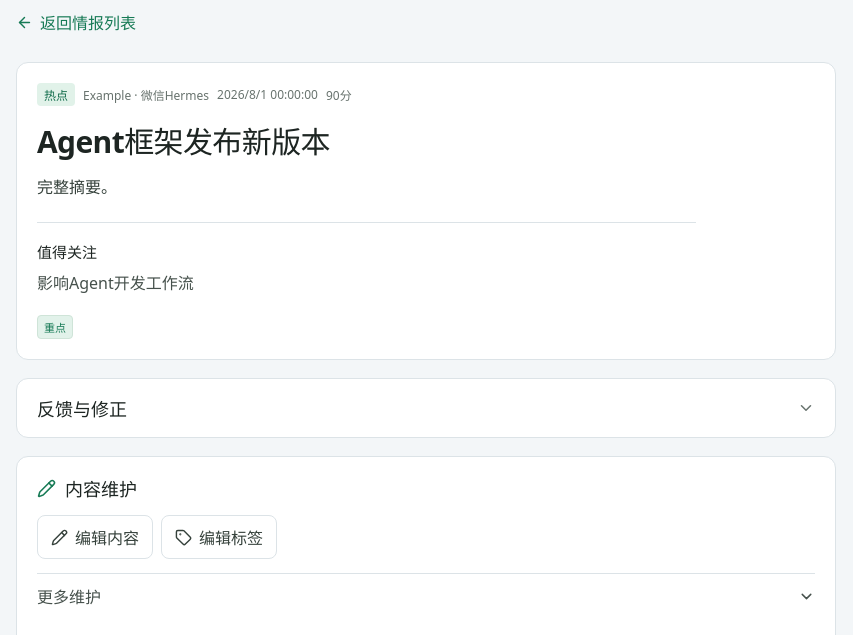
可以在详情编辑标签
Step 1. Click the button "编辑标签" → (219, 537), box [161,515,277,559]
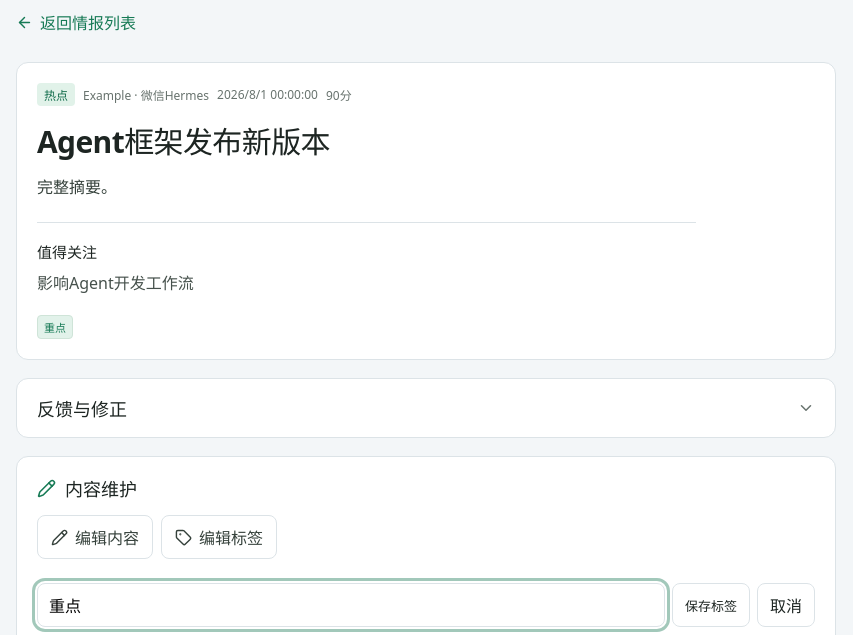
Step 2. Replace the text in the field named "情报标签" with "重点，Agent" → (351, 605), box [37,583,665,627]
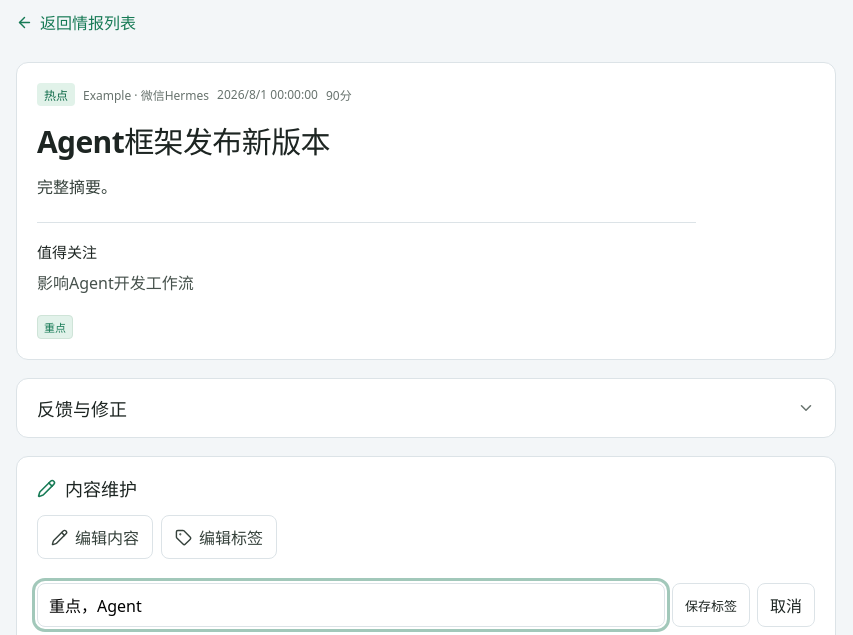
Step 3. Click the button "保存标签" → (711, 605), box [672,583,750,627]
(page scrolled)
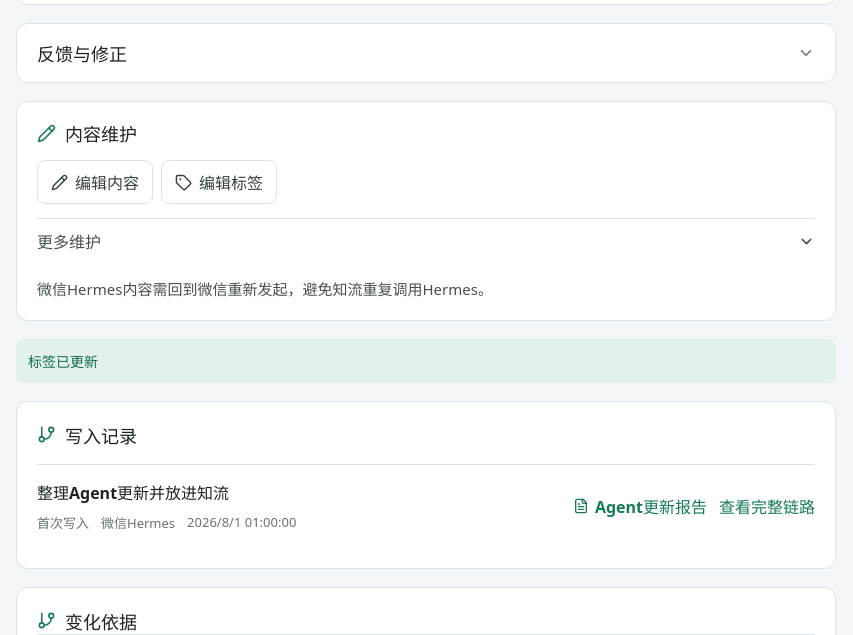
Now the message reads "标签已更新", box [28,352,98,371]
